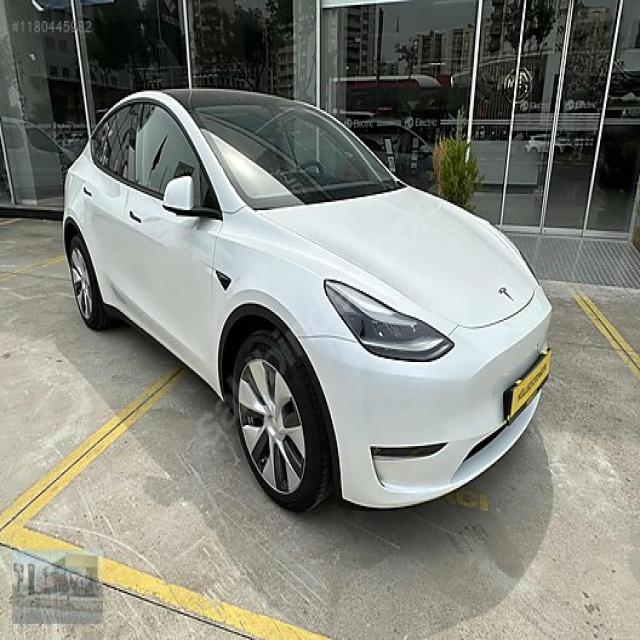tesla: (497, 283, 515, 307)
